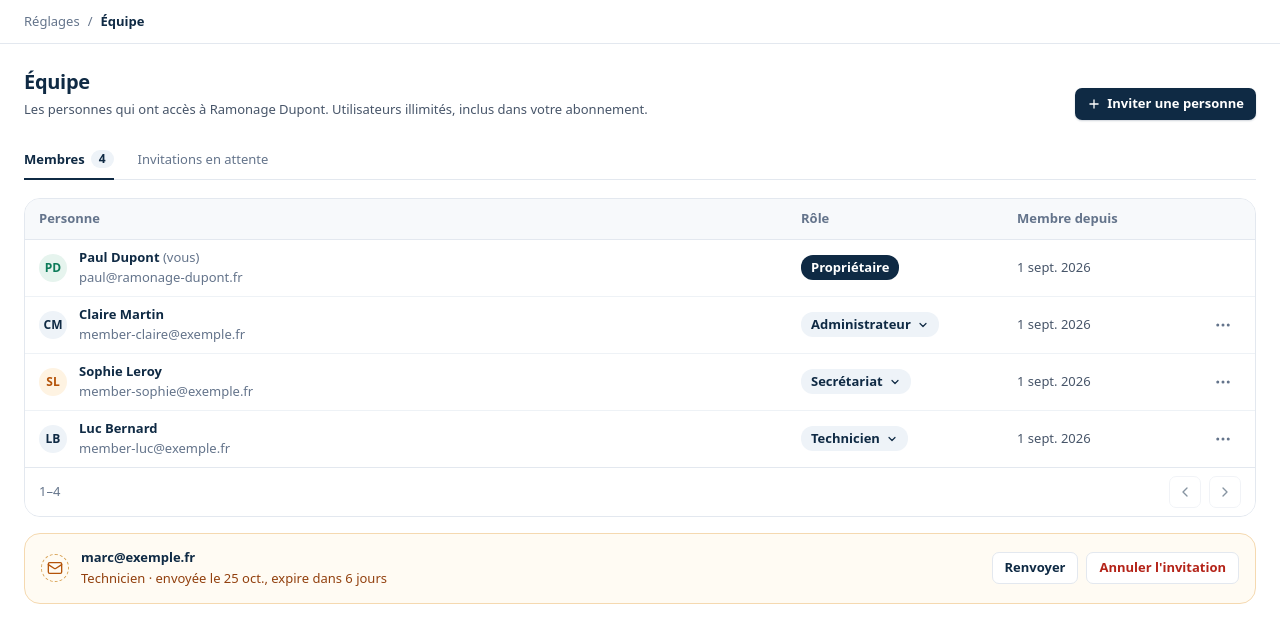
it: TeamScreen pending tab › loads the next page of pending invitations on demand
This screenshot has width=1280, height=621.
Click the tab "Invitations en attente".
click(203, 160)  # box [138,140,268,180]
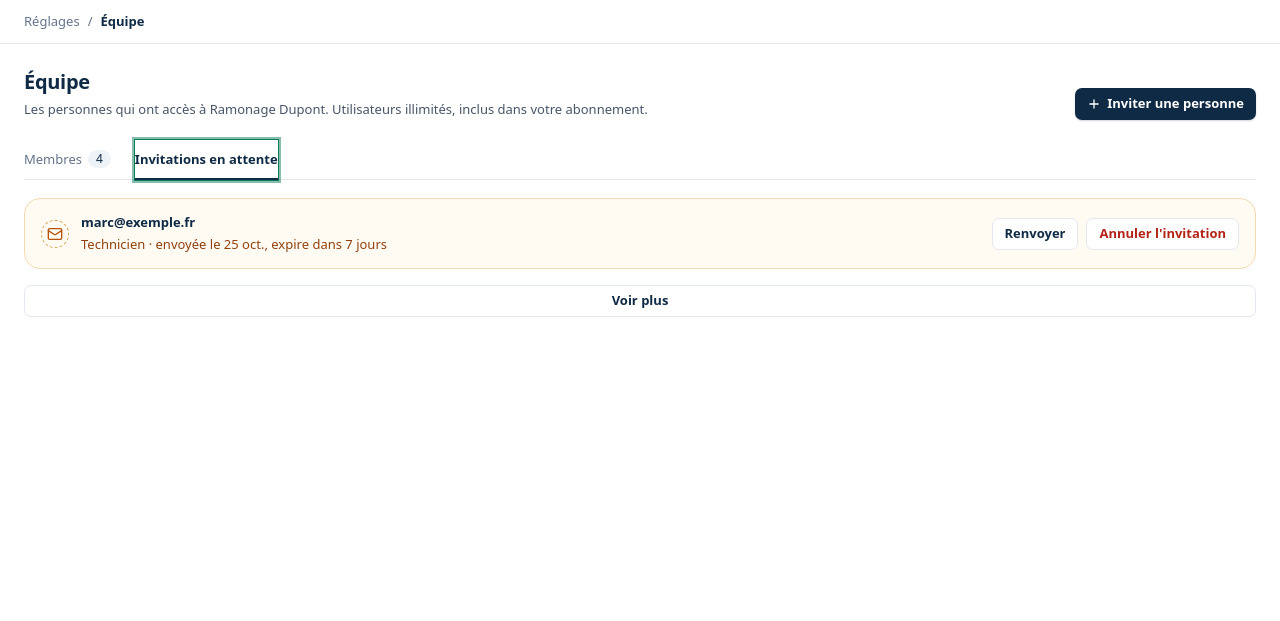
Expected: the text "marc@exemple.fr" is shown, [81,213,195,231]
Expected: the text "julie@exemple.fr" is not shown
Click the button "Voir plus".
click(640, 301)  # box [24,285,1256,317]
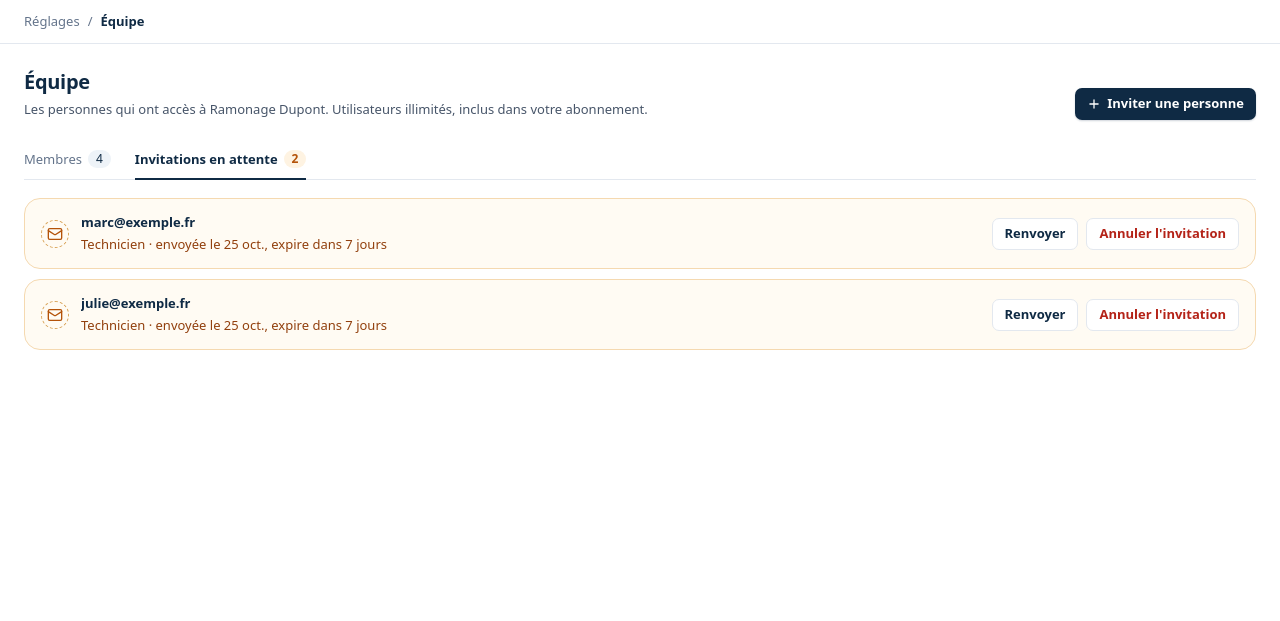
Expected: the text "marc@exemple.fr" is shown, [81,213,195,231]
Expected: the text "julie@exemple.fr" is shown, [81,294,190,312]
Expected: the button "Voir plus" is gone
